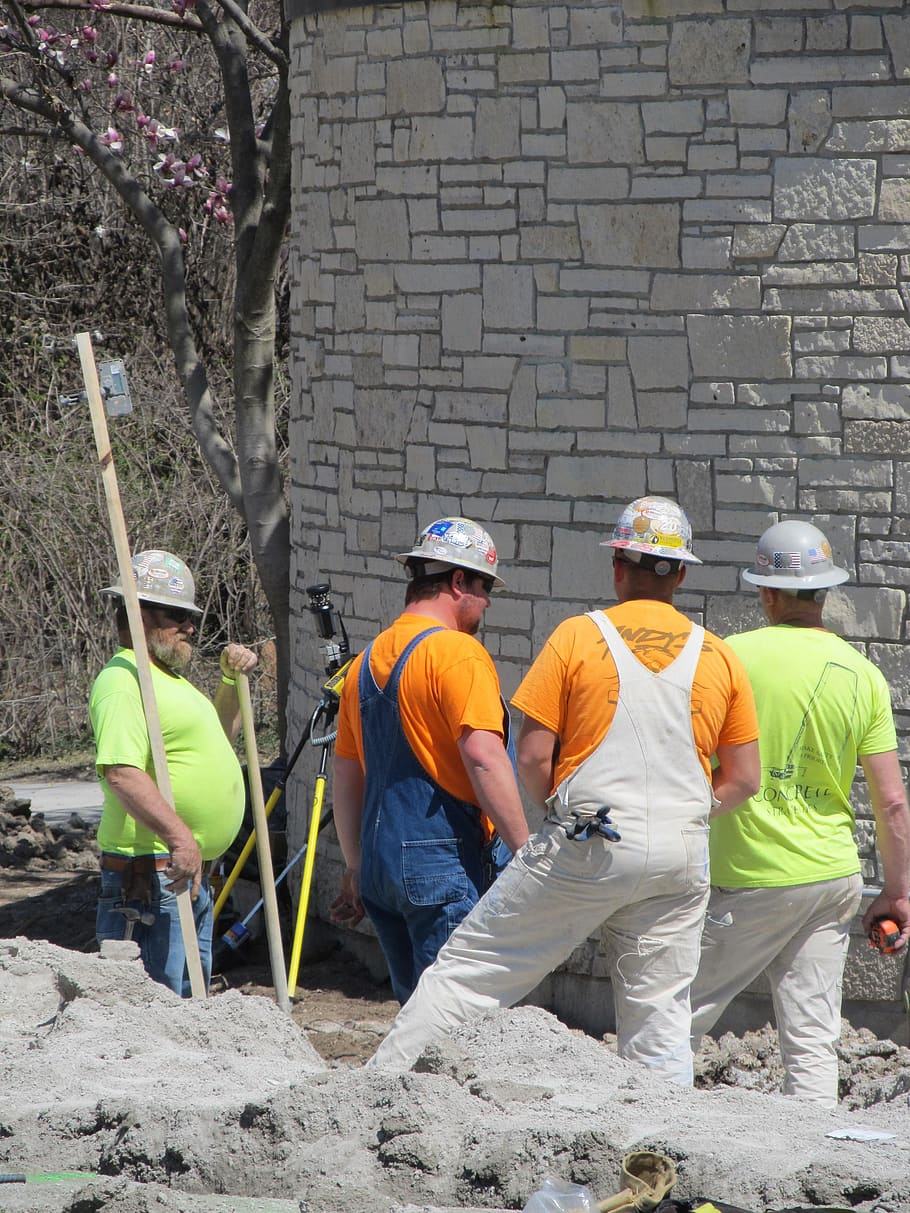Hard Hat: (95, 555, 206, 676), (395, 520, 512, 633), (592, 495, 703, 608), (736, 525, 851, 632)
Person: (368, 496, 760, 1092), (694, 526, 910, 1108), (322, 517, 532, 1003), (82, 553, 249, 997)
